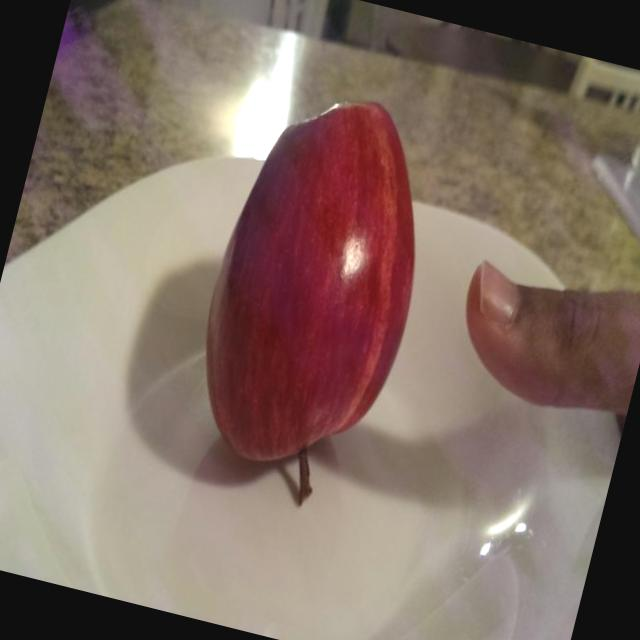Apple: (154, 61, 466, 536)
Finger: (426, 247, 626, 430)
